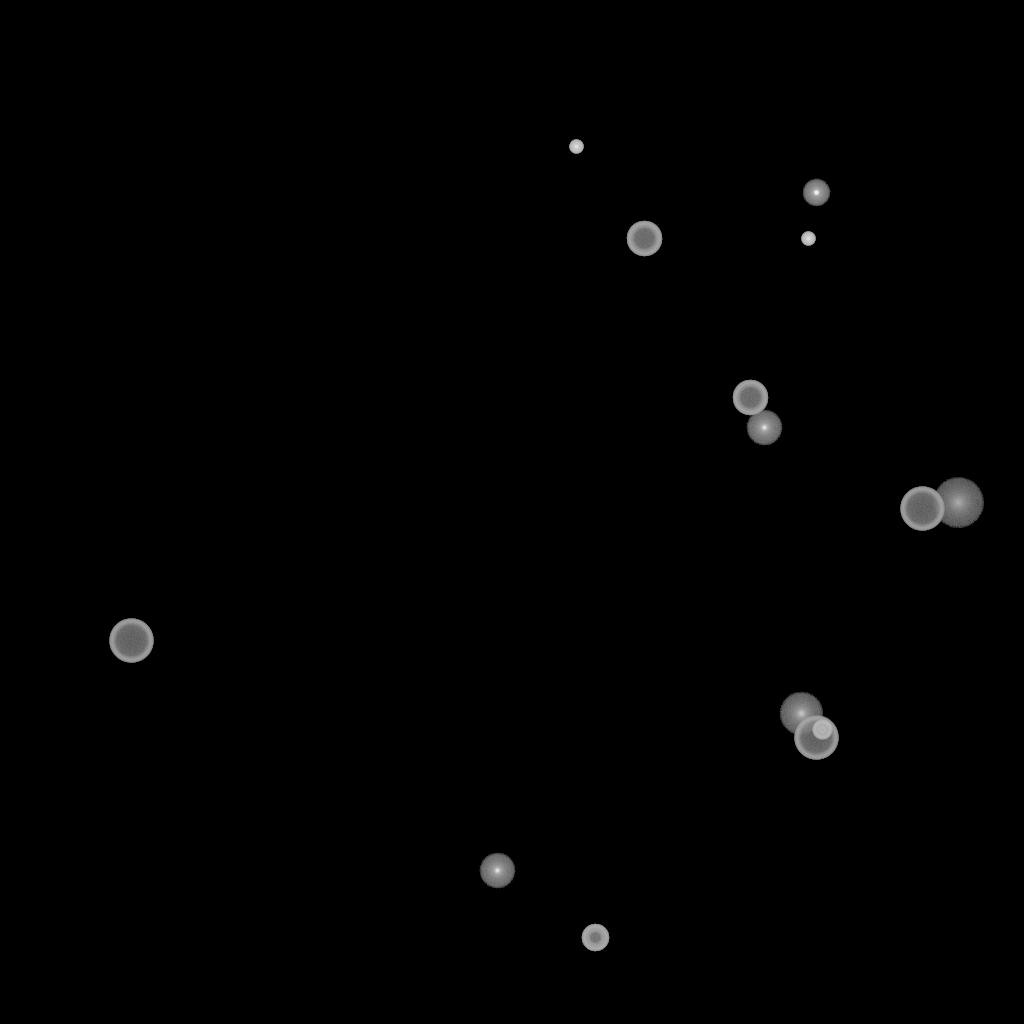depth:-10: (802, 179, 830, 207)
depth:-30: (801, 232, 815, 246), (569, 140, 583, 154)
depth:-40: (812, 720, 832, 740)
depth:-50: (581, 924, 609, 952)
depth:-60: (626, 221, 662, 257), (732, 380, 768, 416)
depth:-70: (109, 619, 153, 663), (794, 716, 838, 760), (900, 487, 944, 531)
depth:0: (746, 410, 782, 446), (479, 853, 515, 889)
depth:10: (779, 692, 823, 736)
depth:20: (932, 478, 984, 528)
